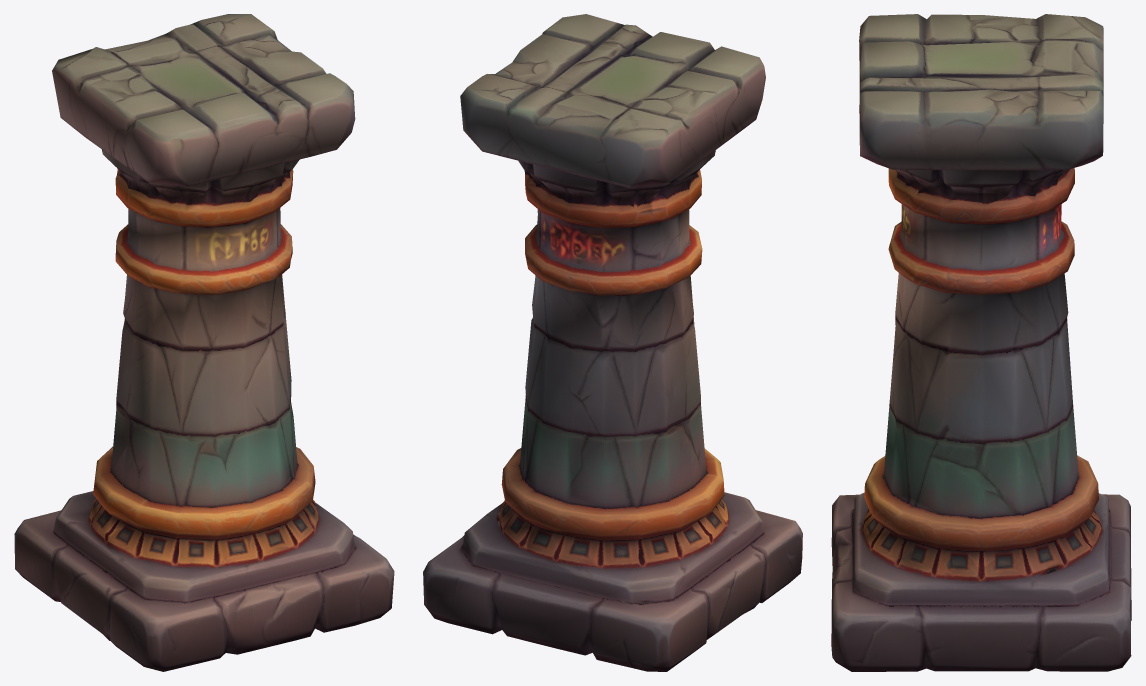
File: ColumnBanded.fbx
3 renders of one model, left to right at view 1: azimuth 30°, elevation 25°; view 2: azimuth 150°, elevation 25°; view 3: azimuth 270°, elevation 25°, orthographic. The views are drawn at different scales.
Visible parts, largest first — view 1: ColumnBanded; view 2: ColumnBanded; view 3: ColumnBanded.
Boxes of the visible parts, x1,y1,x2,y2 form: ColumnBanded: (14,14,394,671); ColumnBanded: (423,14,802,671); ColumnBanded: (831,14,1131,671).
Size of the model in its own units: 0.4949 by 0.9981 by 0.4941.
